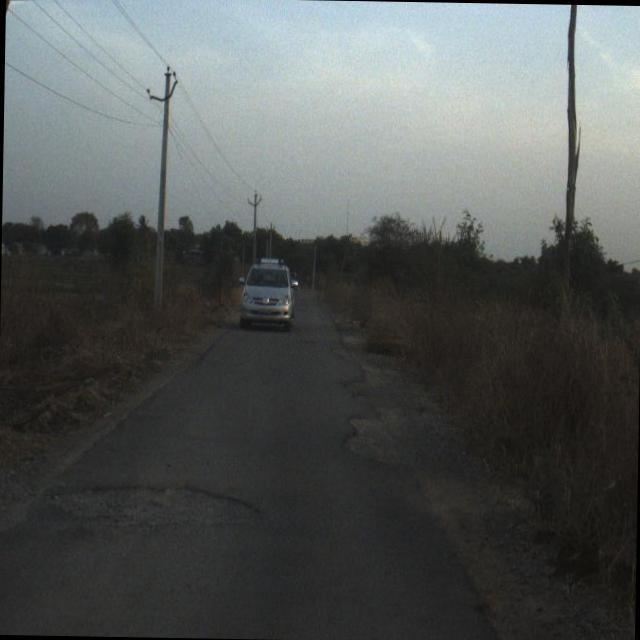Pothole: (40, 482, 266, 536), (346, 418, 398, 464), (345, 380, 369, 396)
